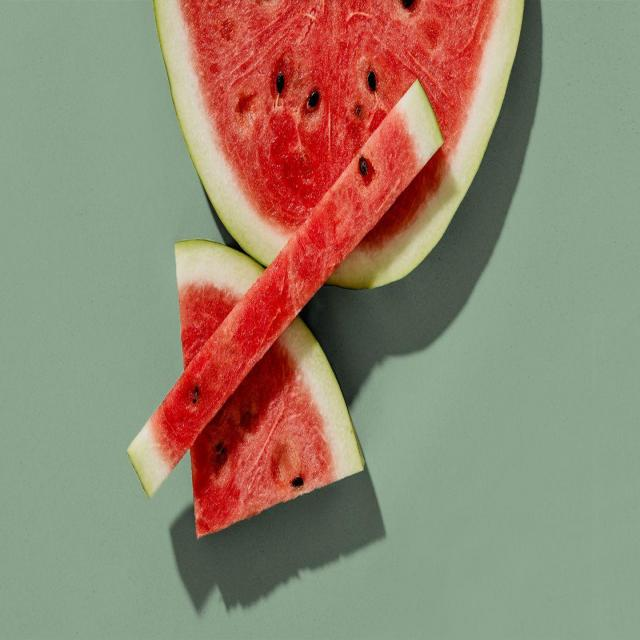watermelon: (122, 79, 447, 502), (146, 0, 537, 295), (172, 226, 376, 542)
